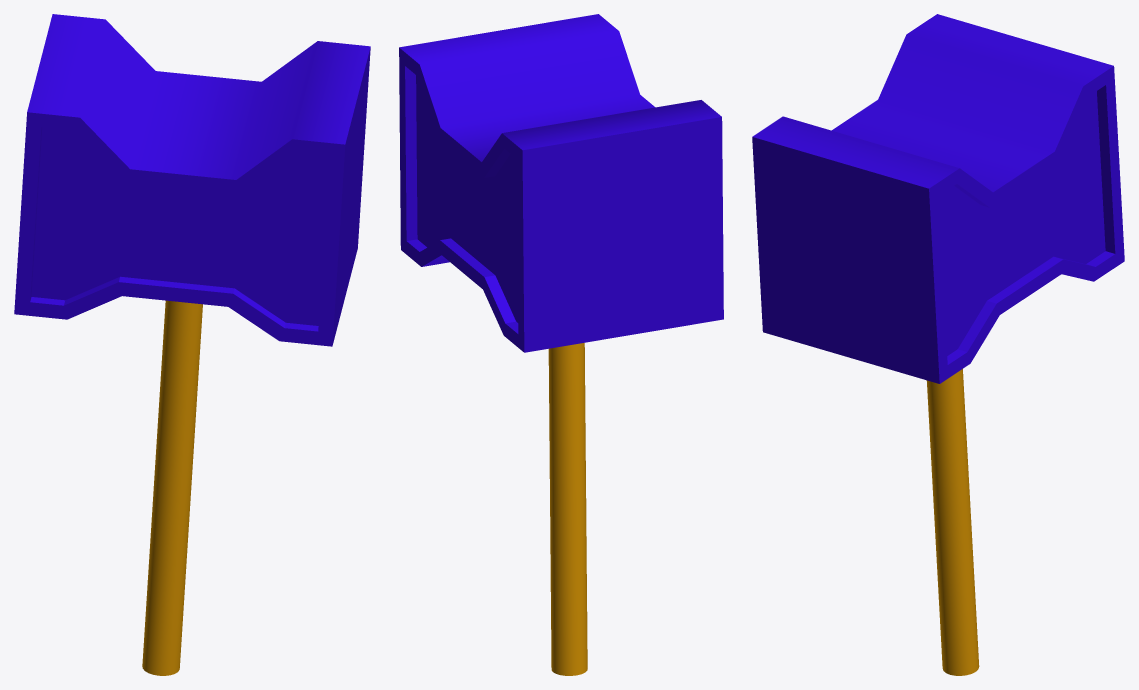
File: hammer_UV_low.fbx
The picture shows the model from 3 angles, left to right: view 1: azimuth 30°, elevation 25°; view 2: azimuth 150°, elevation 25°; view 3: azimuth 270°, elevation 25°; orthographic projection. The views are drawn at different scales.
Visible parts, largest first — view 1: pCube1; view 2: pCube1; view 3: pCube1.
Boxes of the visible parts, x1,y1,x2,y2 form: pCube1: (14,14,370,675); pCube1: (399,14,723,675); pCube1: (752,14,1124,675).
Bounding box in the file's own units: 359 × 597 × 343.
